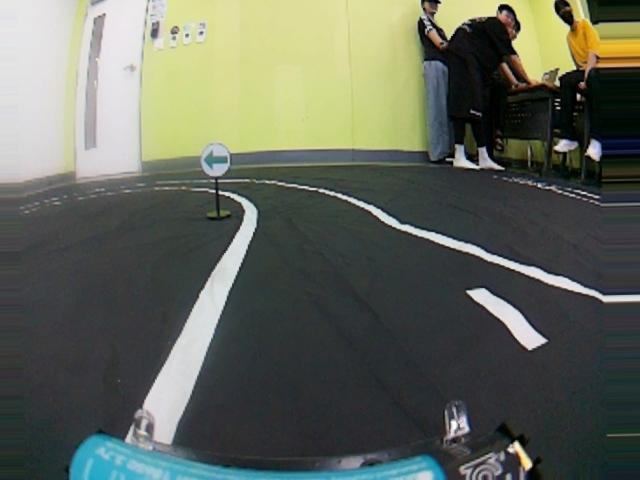right: (144, 198, 546, 468)
sign_left: (200, 138, 232, 179)
